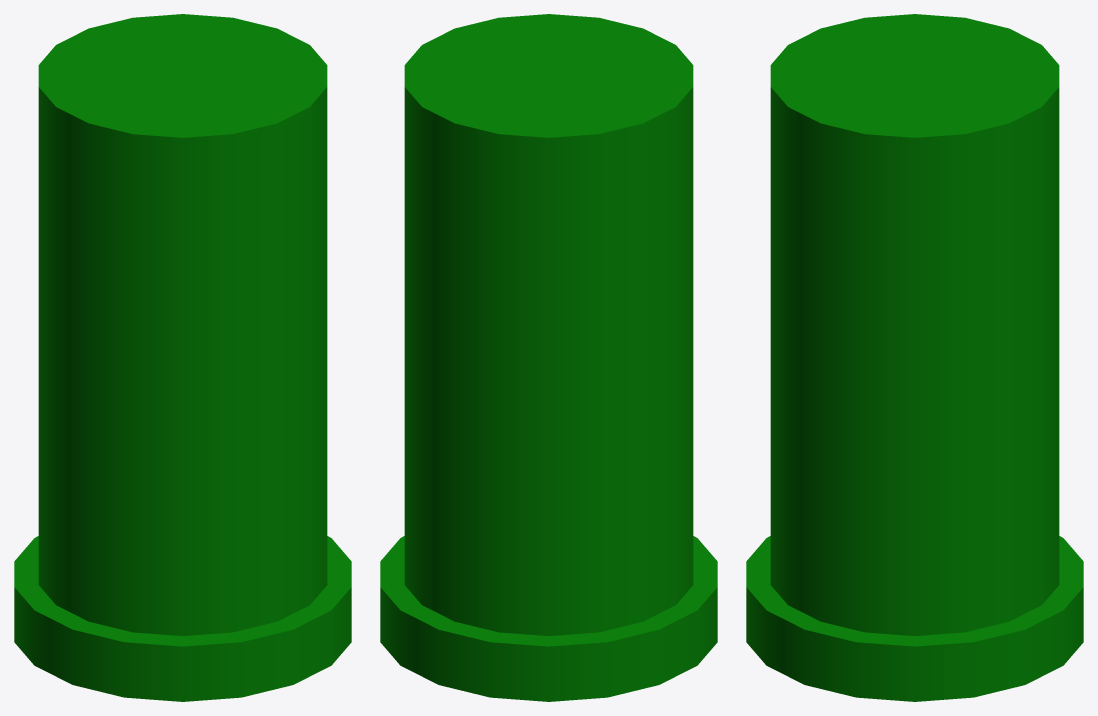
The model's file is stage.fbx.
3 renders of one model, left to right at view 1: azimuth 30°, elevation 25°; view 2: azimuth 150°, elevation 25°; view 3: azimuth 270°, elevation 25°, orthographic.
Parts seen in each view (by area): view 1: stage_green_0.042; view 2: stage_green_0.042; view 3: stage_green_0.042.
Boxes of the visible parts, x1,y1,x2,y2 form: stage_green_0.042: [14, 14, 351, 701]; stage_green_0.042: [380, 14, 717, 701]; stage_green_0.042: [746, 14, 1083, 701].
Size of the model in its own units: 14.03 by 25 by 13.82.
